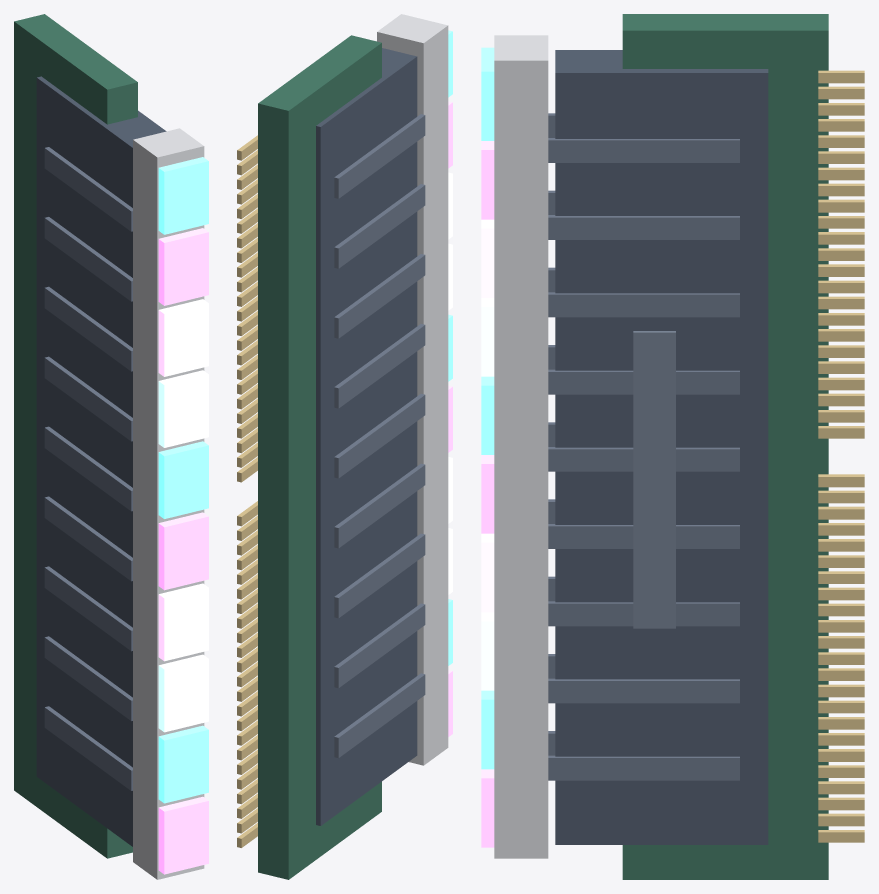
Rendered from corsair-vengeance-rgb-pro-ddr4.glb.
3 renders of one model, left to right at view 1: azimuth 30°, elevation 25°; view 2: azimuth 150°, elevation 25°; view 3: azimuth 270°, elevation 25°, orthographic. The views are drawn at different scales.
Visible parts, largest first — view 1: heatsinkFront-1, PCB-0, RGB_diffuser-66, RGB_segment-68, RGB_segment-74, RGB_segment-69, RGB_segment-70, RGB_segment-71, RGB_segment-72, RGB_segment-73, RGB_segment-75, RGB_segment-67 (+10 smaller); view 2: heatsinkFront-1, PCB-0, RGB_diffuser-66, vent_ridge-2, vent_ridge-3, vent_ridge-4, vent_ridge-9, vent_ridge-10, vent_ridge-5, vent_ridge-6, vent_ridge-7, vent_ridge-8; view 3: heatsinkFront-1, PCB-0, RGB_diffuser-66, raised_logo_backdrop-77, vent_ridge-17, vent_ridge-11, vent_ridge-12, vent_ridge-18, vent_ridge-19, vent_ridge-13, vent_ridge-16, vent_ridge-15 (+11 smaller).
Boxes of the visible parts, x1=… form: heatsinkFront-1: x1=36, y1=76, x2=166, y2=846; PCB-0: x1=14, y1=14, x2=137, y2=858; RGB_diffuser-66: x1=133, y1=128, x2=204, y2=879; RGB_segment-68: x1=158, y1=725, x2=208, y2=803; RGB_segment-74: x1=158, y1=299, x2=208, y2=376; RGB_segment-69: x1=158, y1=654, x2=208, y2=732; RGB_segment-70: x1=158, y1=583, x2=208, y2=661; RGB_segment-71: x1=158, y1=512, x2=208, y2=590; RGB_segment-72: x1=158, y1=441, x2=208, y2=518; RGB_segment-73: x1=158, y1=370, x2=208, y2=447; RGB_segment-75: x1=158, y1=228, x2=208, y2=305; RGB_segment-67: x1=158, y1=796, x2=208, y2=874; heatsinkFront-1: x1=316, y1=48, x2=417, y2=825; PCB-0: x1=258, y1=35, x2=381, y2=879; RGB_diffuser-66: x1=377, y1=14, x2=448, y2=765; vent_ridge-2: x1=334, y1=673, x2=425, y2=758; vent_ridge-3: x1=334, y1=603, x2=425, y2=688; vent_ridge-4: x1=334, y1=533, x2=425, y2=618; vent_ridge-9: x1=334, y1=184, x2=425, y2=268; vent_ridge-10: x1=334, y1=114, x2=425, y2=198; vent_ridge-5: x1=334, y1=463, x2=425, y2=548; vent_ridge-6: x1=334, y1=393, x2=425, y2=478; vent_ridge-7: x1=334, y1=324, x2=425, y2=408; vent_ridge-8: x1=334, y1=254, x2=425, y2=338; heatsinkFront-1: x1=555, y1=50, x2=768, y2=844; PCB-0: x1=622, y1=14, x2=828, y2=879; RGB_diffuser-66: x1=494, y1=35, x2=548, y2=858; raised_logo_backdrop-77: x1=633, y1=331, x2=675, y2=628; vent_ridge-17: x1=548, y1=292, x2=739, y2=317; vent_ridge-11: x1=548, y1=755, x2=739, y2=780; vent_ridge-12: x1=548, y1=678, x2=739, y2=703; vent_ridge-18: x1=548, y1=215, x2=739, y2=239; vent_ridge-19: x1=548, y1=138, x2=739, y2=162; vent_ridge-13: x1=548, y1=601, x2=739, y2=626; vent_ridge-16: x1=548, y1=369, x2=739, y2=394; vent_ridge-15: x1=548, y1=447, x2=739, y2=471.
Size of the model in its own units: 0.093 by 1.32 by 0.5395.
